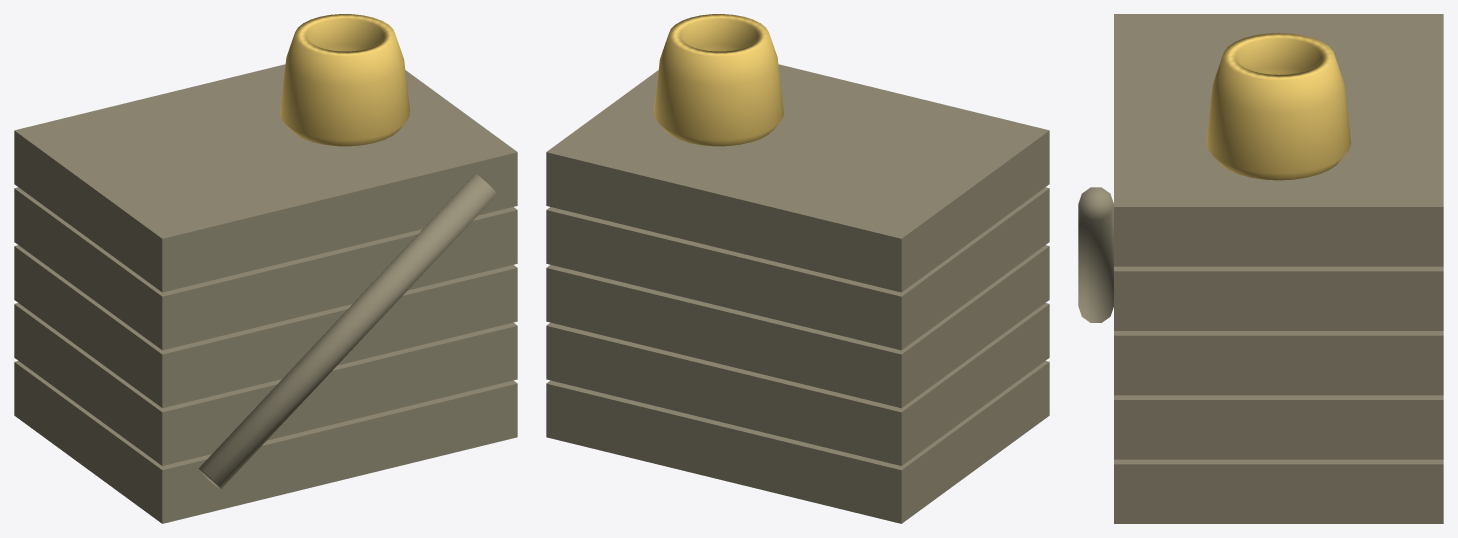
File: underwater-reef-worlds-encrusted-crate-0dcfac6b__7067.glb
3 renders of one model, left to right at view 1: azimuth 30°, elevation 25°; view 2: azimuth 150°, elevation 25°; view 3: azimuth 270°, elevation 25°, orthographic. The views are drawn at different scales.
Parts seen in each view (by area): view 1: encrusted-crate; view 2: encrusted-crate; view 3: encrusted-crate.
Part boxes in pixels (x1=…): encrusted-crate: x1=14, y1=14, x2=517, y2=523; encrusted-crate: x1=546, y1=14, x2=1049, y2=523; encrusted-crate: x1=1078, y1=14, x2=1443, y2=523.
Size of the model in its own units: 0.9 by 0.9 by 0.72.
